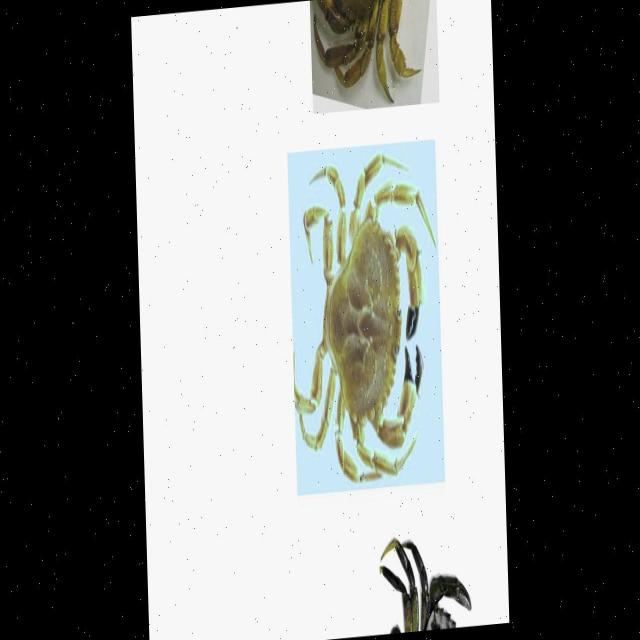egc: (378, 534, 472, 638)
